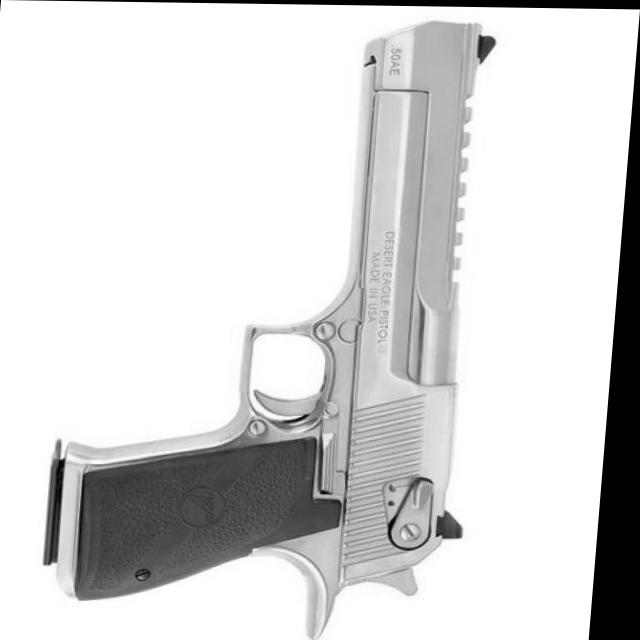handgun: (0, 11, 510, 640)
